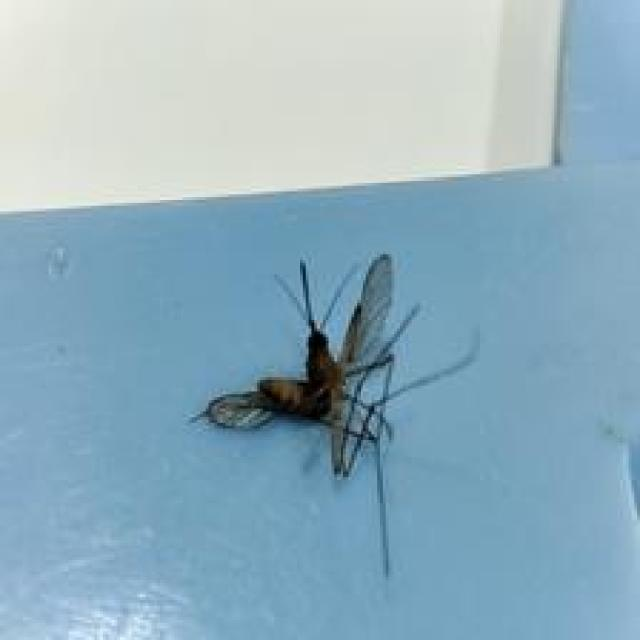Culex: (189, 252, 480, 577)
